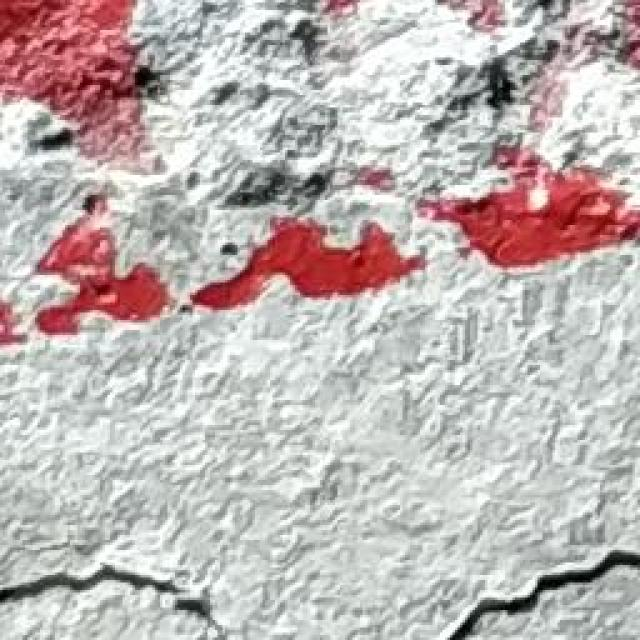Rippled: (2, 0, 640, 355)
Transverse: (0, 516, 640, 640)
